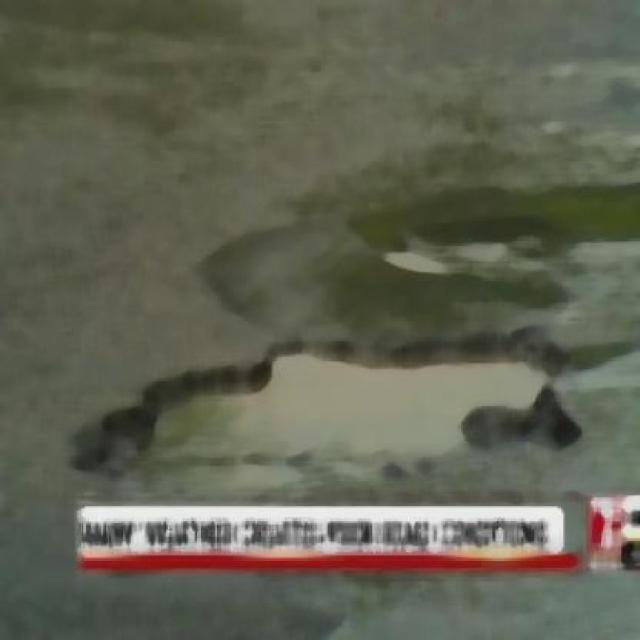Pothole: (61, 336, 556, 499)
